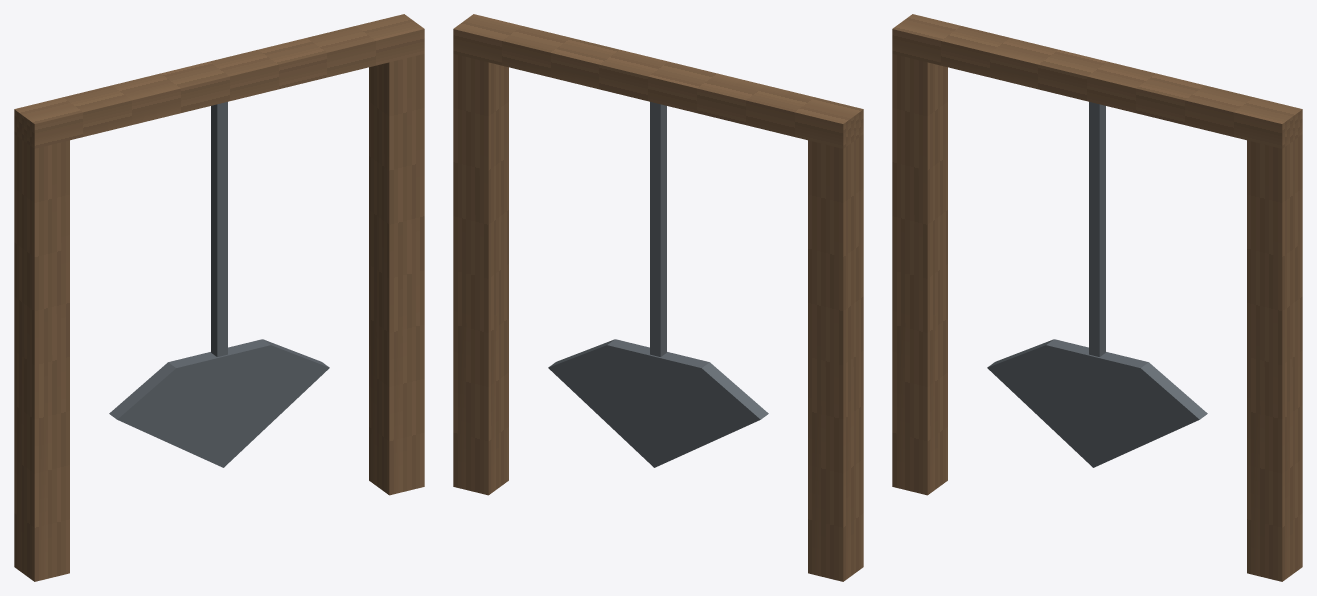
Rendered from dungeon-room-builder-swing-blade-d5b26012__25822.glb.
3 views of the same model, side by side, from view 1: azimuth 30°, elevation 25°; view 2: azimuth 150°, elevation 25°; view 3: azimuth 330°, elevation 25° (orthographic).
Parts seen in each view (by area): view 1: swing-blade; view 2: swing-blade; view 3: swing-blade.
Boxes of the visible parts, x1,y1,x2,y2 form: swing-blade: (14, 14, 424, 581); swing-blade: (453, 14, 863, 581); swing-blade: (892, 14, 1302, 581).
Size of the model in its own units: 3.3 by 3.7 by 0.2999.
2 materials, 1 textured.
